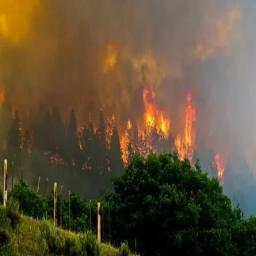Heavy smoke: (1, 0, 256, 188)
Medium fire: (0, 64, 237, 190)
